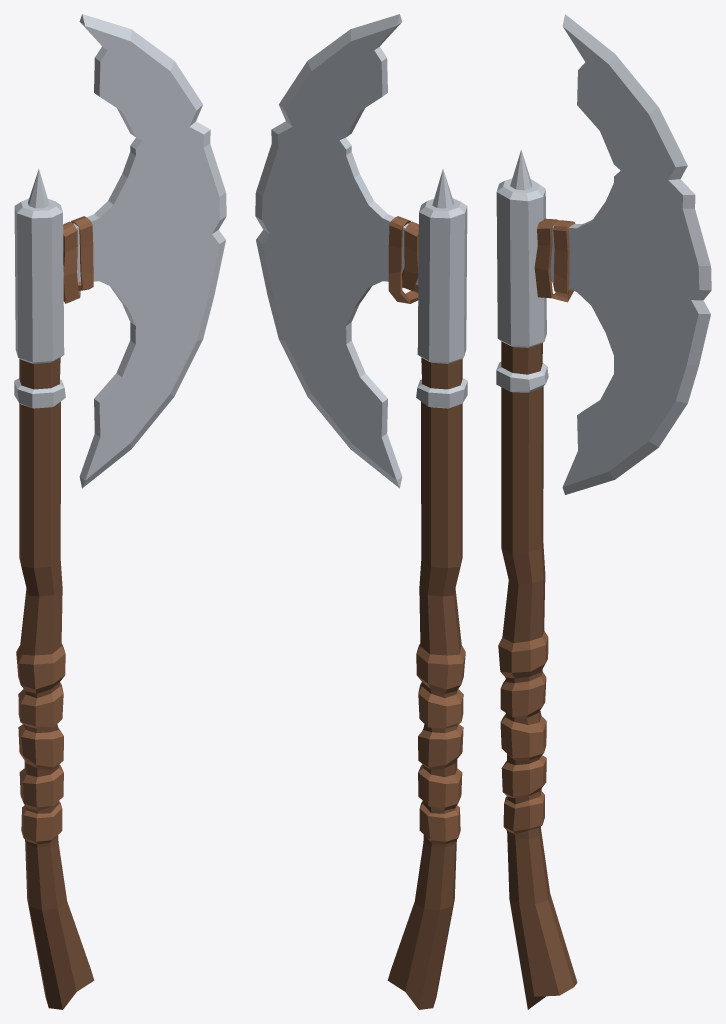
The model's file is Q_Axe-CS5KFjTv.glb.
3 renders of one model, left to right at view 1: azimuth 30°, elevation 25°; view 2: azimuth 150°, elevation 25°; view 3: azimuth 330°, elevation 25°, orthographic.
Parts seen in each view (by area): view 1: Axe; view 2: Axe; view 3: Axe.
Part boxes in pixels (x1=…): Axe: x1=14, y1=14, x2=226, y2=1009; Axe: x1=255, y1=14, x2=467, y2=1009; Axe: x1=496, y1=14, x2=711, y2=1009.
Size of the model in its own units: 1.17 by 5.26 by 0.2483.
